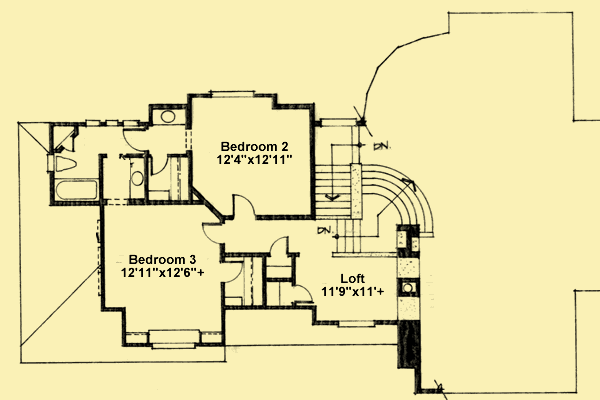door: (229, 193, 257, 221), (122, 127, 150, 152), (200, 220, 227, 245), (217, 259, 244, 284), (266, 234, 292, 257), (288, 284, 315, 306), (149, 154, 172, 176)
large sink: (52, 152, 80, 174)
small sink: (150, 108, 191, 129), (129, 159, 147, 201)
stairs: (316, 124, 434, 261)
tub: (52, 178, 101, 202)
windows: (208, 87, 257, 102), (82, 117, 143, 128), (332, 317, 381, 330), (150, 341, 197, 354)
